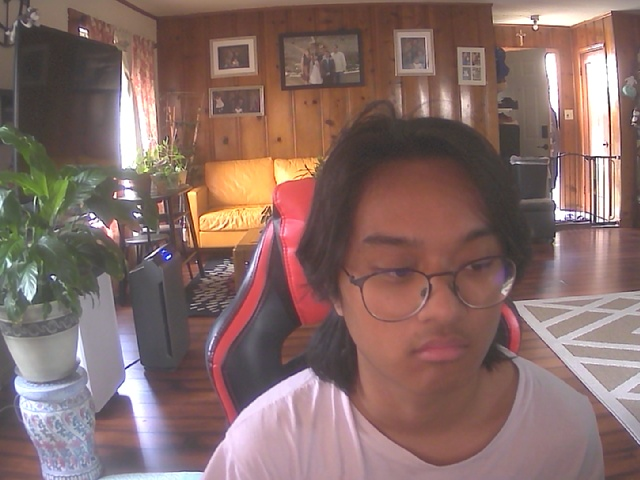neutral: (324, 129, 526, 402)
